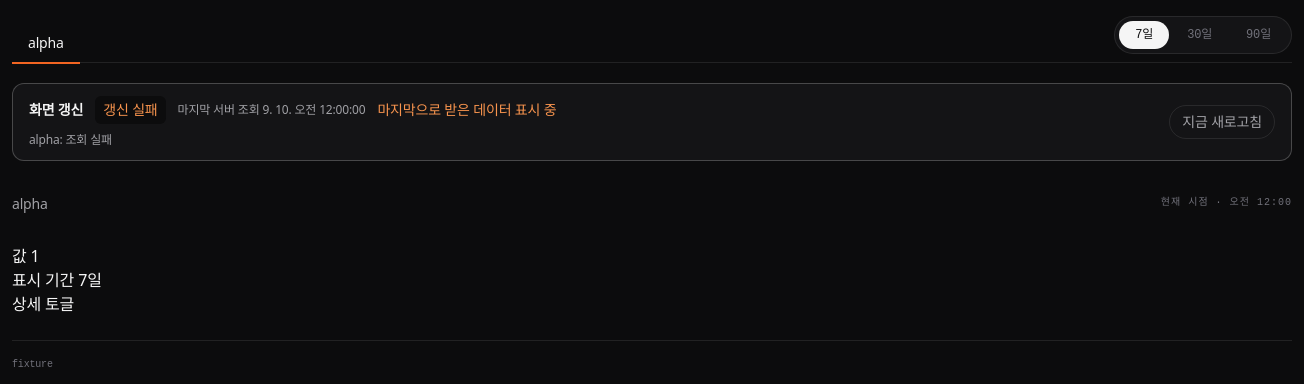
Scenario: 대시보드 자동 갱신 › 캐시가 있어도 panel 실패를 알리고 마지막 데이터·시각을 유지한다
Check: the text "갱신 실패" is shown, box [95,96,166,124]
Check: the message "alpha: 조회 실패" is shown, box [29,131,112,148]
Click the button "지금 새로고침" at (1222, 122), box [1169,105,1275,139]
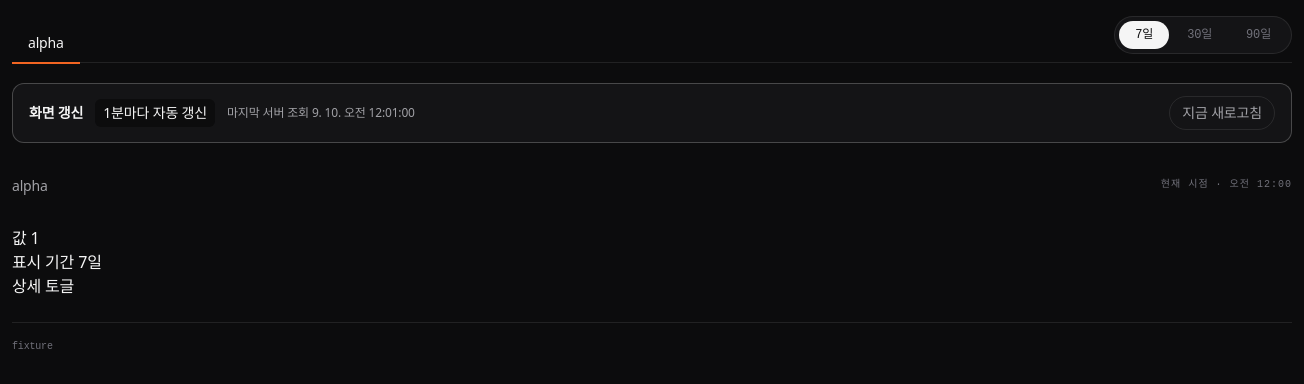
Check: the message "alpha: 조회 실패" is gone
